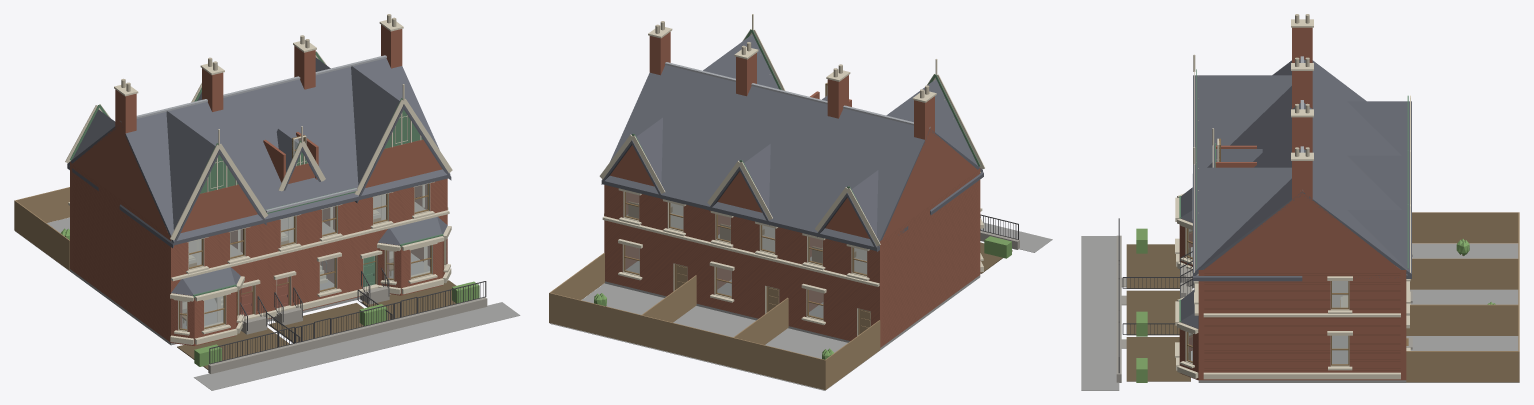
The model's file is clay-queen-anne-rowhouse-trio-clay-v002.glb.
3 views of the same model, side by side, from view 1: azimuth 30°, elevation 25°; view 2: azimuth 150°, elevation 25°; view 3: azimuth 270°, elevation 25° (orthographic). The views are drawn at different scales.
Visible parts, largest first — view 1: CLAY_WALL, CLAY_ROOF, CLAY_PALE, CLAY_FOUNDATION, CLAY_SOIL, CLAY_STONE, CLAY_GLASS, CLAY_HARDWARE, CLAY_TIMBER, CLAY_GREEN, CLAY_SAND, CLAY_TRIM (+6 smaller); view 2: CLAY_WALL, CLAY_ROOF, CLAY_TIMBER, CLAY_FOUNDATION, CLAY_PALE, CLAY_GLASS, CLAY_JOINT, CLAY_SAND, CLAY_TRIM, CLAY_FLOOR, CLAY_LEAD, CLAY_PLANTING (+1 smaller); view 3: CLAY_ROOF, CLAY_WALL, CLAY_TIMBER, CLAY_FOUNDATION, CLAY_SOIL, CLAY_PALE, CLAY_JOINT, CLAY_STONE, CLAY_GLASS, CLAY_PLANTING, CLAY_HARDWARE, CLAY_SAND (+2 smaller).
Part boxes in pixels (<box>): CLAY_WALL: <box>70,25,447,345</box>; CLAY_ROOF: <box>67,57,451,295</box>; CLAY_PALE: <box>65,19,452,344</box>; CLAY_FOUNDATION: <box>15,217,520,390</box>; CLAY_SOIL: <box>177,280,456,369</box>; CLAY_STONE: <box>208,286,487,373</box>; CLAY_GLASS: <box>180,137,430,329</box>; CLAY_HARDWARE: <box>209,260,486,364</box>; CLAY_TIMBER: <box>14,187,393,320</box>; CLAY_GREEN: <box>70,52,443,297</box>; CLAY_SAND: <box>121,14,446,331</box>; CLAY_TRIM: <box>179,135,444,330</box>; CLAY_WALL: <box>604,32,980,347</box>; CLAY_ROOF: <box>601,34,983,251</box>; CLAY_TIMBER: <box>549,201,880,390</box>; CLAY_FOUNDATION: <box>549,222,1052,390</box>; CLAY_PALE: <box>599,14,984,325</box>; CLAY_GLASS: <box>625,85,866,318</box>; CLAY_JOINT: <box>605,180,973,344</box>; CLAY_SAND: <box>622,21,929,335</box>; CLAY_TRIM: <box>623,83,866,334</box>; CLAY_FLOOR: <box>626,203,866,274</box>; CLAY_LEAD: <box>665,62,930,128</box>; CLAY_PLANTING: <box>594,236,1011,359</box>; CLAY_ROOF: <box>1181,59,1411,328</box>; CLAY_WALL: <box>1179,27,1406,380</box>; CLAY_TIMBER: <box>1340,212,1519,382</box>; CLAY_FOUNDATION: <box>1081,236,1519,390</box>; CLAY_SOIL: <box>1126,244,1190,381</box>; CLAY_PALE: <box>1175,19,1410,379</box>; CLAY_JOINT: <box>1180,227,1400,379</box>; CLAY_STONE: <box>1116,235,1412,382</box>; CLAY_GLASS: <box>1188,229,1348,364</box>; CLAY_PLANTING: <box>1136,228,1495,382</box>; CLAY_HARDWARE: <box>1118,218,1194,373</box>; CLAY_SAND: <box>1185,14,1349,366</box>.
Size of the model in its own units: 19.4 by 13.55 by 23.2.
